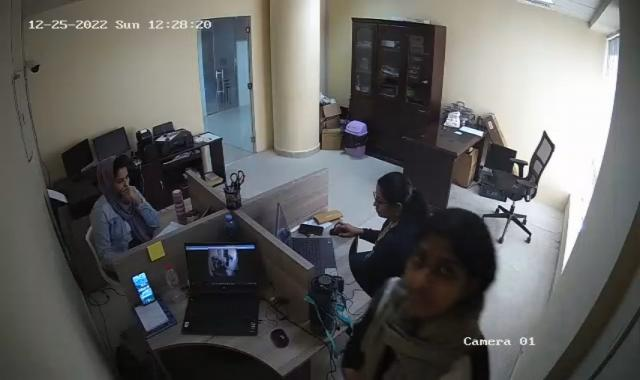no_hairnet: (402, 209, 497, 318), (372, 169, 413, 218), (96, 155, 129, 187)
